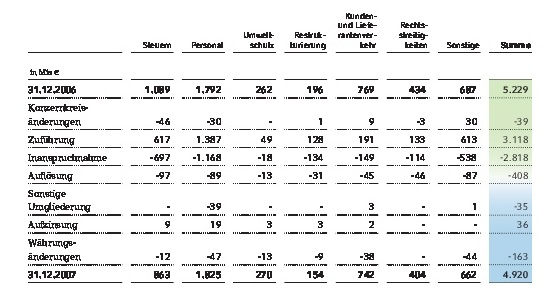table: (0, 0, 552, 300)
